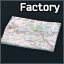Factory plan map: (0, 0, 64, 64)
